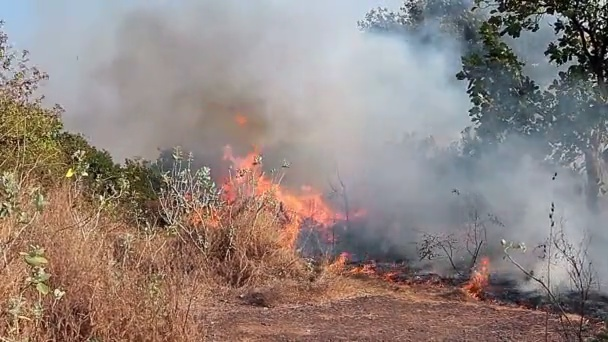fire: (231, 158, 332, 223), (66, 169, 71, 177)
